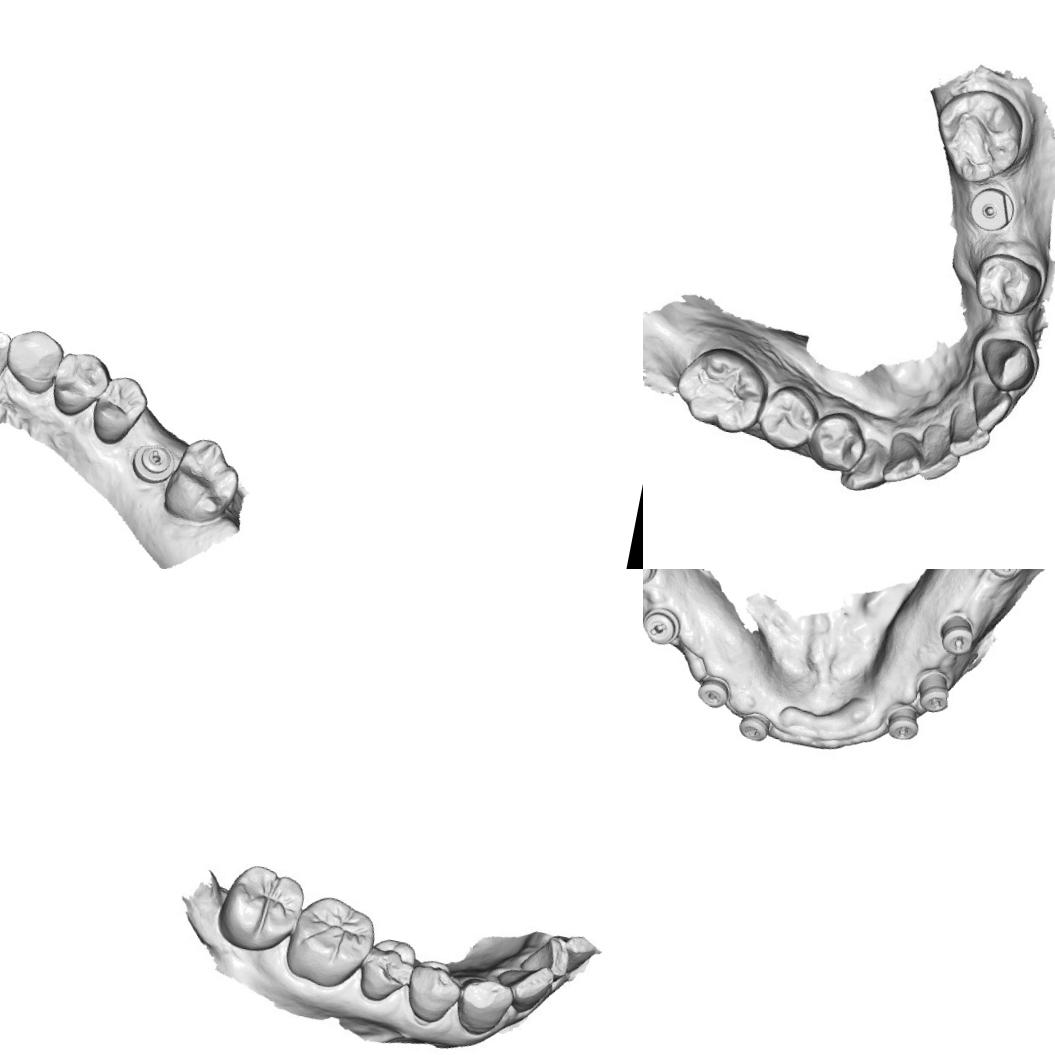canine: (0, 321, 70, 399), (452, 970, 514, 1040), (976, 332, 1034, 389), (838, 438, 890, 496)
implant: (966, 181, 1020, 238)
implant_minus: (127, 436, 179, 486), (911, 666, 956, 716), (934, 610, 978, 660), (643, 602, 684, 647), (882, 702, 923, 744), (693, 673, 732, 710), (734, 708, 773, 744), (978, 569, 1030, 582)
incisor: (494, 962, 556, 1014), (516, 928, 572, 983), (913, 421, 963, 482), (966, 376, 1014, 430), (878, 430, 925, 485), (946, 405, 994, 456), (0, 320, 14, 389)
molar: (277, 888, 381, 996), (932, 87, 1036, 187), (213, 856, 307, 960), (158, 430, 248, 531), (672, 343, 766, 435)
premolar: (750, 379, 822, 459), (85, 368, 153, 450), (354, 928, 423, 1008), (396, 952, 466, 1030), (46, 346, 114, 424), (975, 251, 1046, 318), (804, 405, 866, 476)
